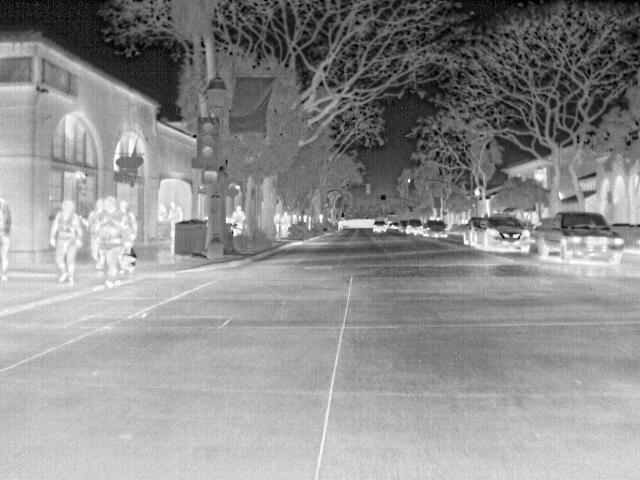car: (534, 211, 627, 265), (482, 218, 531, 252), (462, 218, 484, 248), (425, 221, 449, 238), (404, 220, 424, 236), (372, 220, 391, 234)
person: (48, 200, 85, 285), (98, 196, 128, 288), (2, 196, 15, 280), (119, 200, 138, 248), (167, 199, 184, 235), (231, 204, 250, 234), (276, 210, 292, 237)
